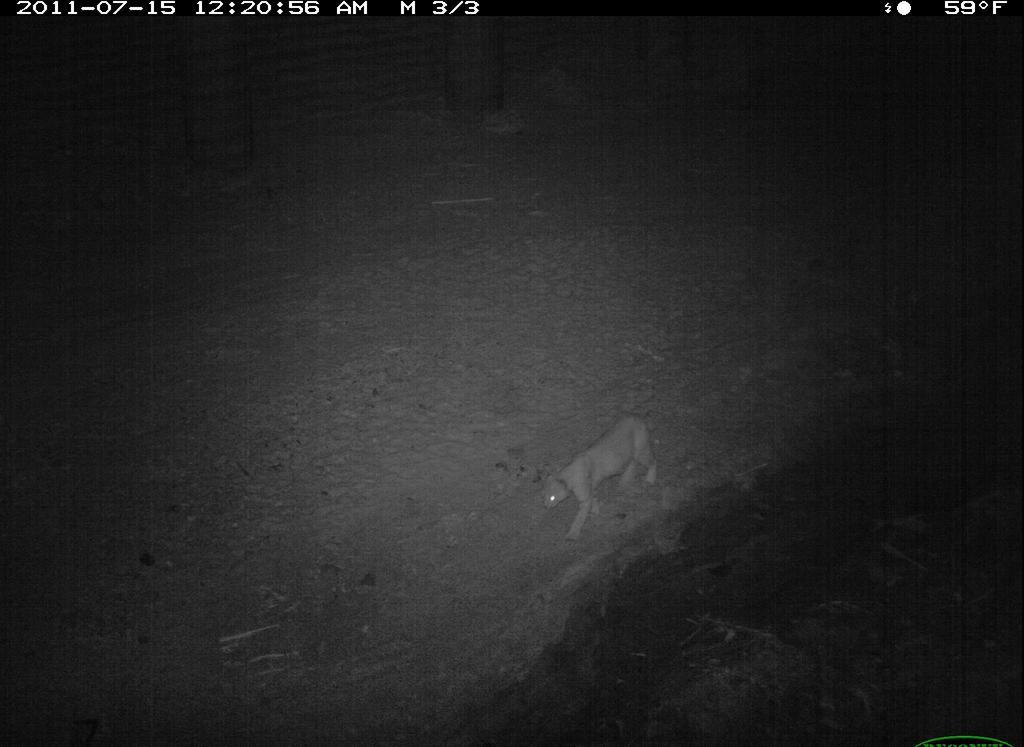bobcat: (539, 405, 664, 551)
